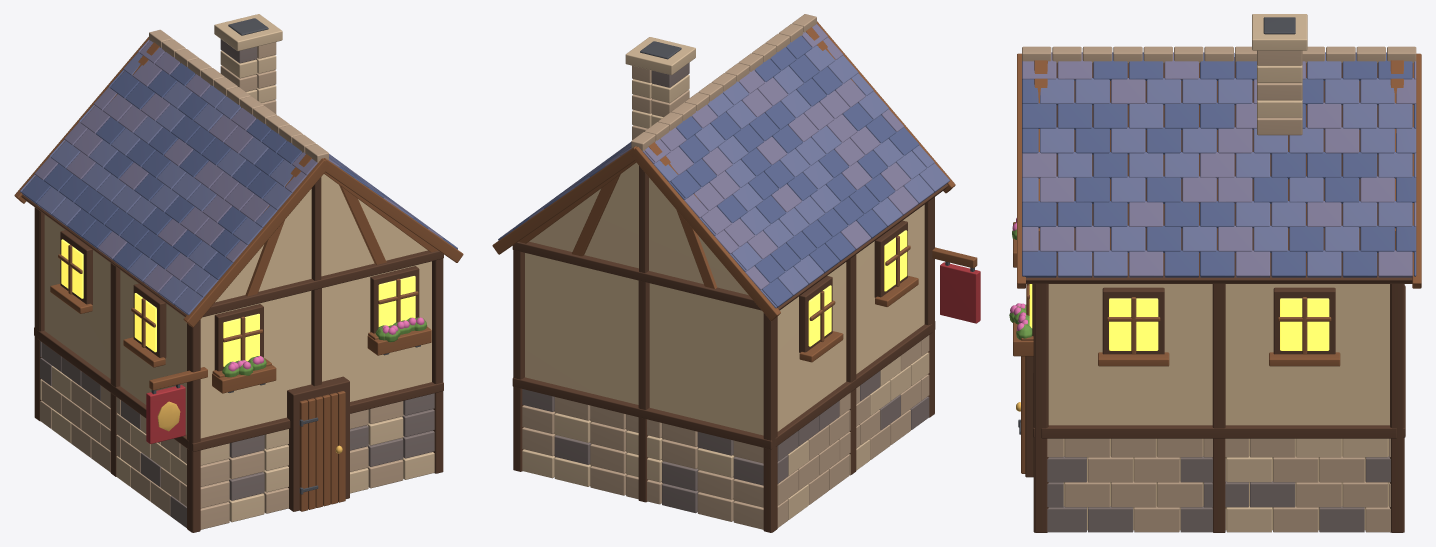
The model's file is ashwick-large-merchant-house.meshopt.glb.
The picture shows the model from 3 angles, left to right: view 1: azimuth 30°, elevation 25°; view 2: azimuth 150°, elevation 25°; view 3: azimuth 270°, elevation 25°; orthographic projection. The views are drawn at different scales.
Parts seen in each view (by area): view 1: Limewashed walls.001, Overlapping slate courses.004, Overlapping slate courses.005, Overlapping slate courses.003, Gable infill.001, Side foundation.004, Foundation ashlar.003, Frame posts.001, Tie beams.001, Carved verge.001, Door planks.001, Side posts.001 (+22 smaller); view 2: Limewashed walls.001, Overlapping slate courses.004, Overlapping slate courses.005, Overlapping slate courses.003, Foundation ashlar.003, Gable infill.001, Side foundation.004, Frame posts.001, Tie beams.001, Carved verge.001, Side posts.001, Foundation ashlar.004 (+16 smaller); view 3: Limewashed walls.001, Overlapping slate courses.005, Overlapping slate courses.004, Overlapping slate courses.003, Side foundation.004, Side posts.001, Side foundation.003, Roof decking.001, Ridge caps.001, Side rails.001, Leaded windows.004, Side foundation.005 (+12 smaller).
Part boxes in pixels (x1,y1,x2,y2): Limewashed walls.001: [44, 215, 431, 502]; Overlapping slate courses.004: [21, 63, 457, 279]; Overlapping slate courses.005: [20, 52, 440, 315]; Overlapping slate courses.003: [34, 39, 443, 293]; Gable infill.001: [215, 174, 427, 302]; Side foundation.004: [40, 380, 186, 515]; Foundation ashlar.003: [200, 401, 403, 529]; Frame posts.001: [40, 211, 443, 532]; Tie beams.001: [34, 250, 443, 451]; Carved verge.001: [14, 37, 463, 327]; Door planks.001: [299, 391, 345, 511]; Side posts.001: [34, 207, 435, 532]; Limewashed walls.001: [525, 204, 924, 501]; Overlapping slate courses.004: [498, 35, 919, 307]; Overlapping slate courses.005: [531, 45, 949, 308]; Overlapping slate courses.003: [500, 24, 918, 289]; Foundation ashlar.003: [522, 397, 763, 529]; Gable infill.001: [529, 162, 748, 294]; Side foundation.004: [777, 335, 929, 527]; Frame posts.001: [513, 201, 929, 532]; Tie beams.001: [512, 241, 935, 449]; Carved verge.001: [492, 21, 955, 320]; Side posts.001: [521, 197, 934, 532]; Foundation ashlar.004: [522, 413, 734, 486]; Limewashed walls.001: [1048, 284, 1389, 530]; Overlapping slate courses.005: [1022, 52, 1416, 277]; Overlapping slate courses.004: [1022, 52, 1416, 277]; Overlapping slate courses.003: [1022, 52, 1416, 277]; Side foundation.004: [1047, 438, 1390, 532]; Side posts.001: [1035, 284, 1403, 532]; Side foundation.003: [1047, 456, 1390, 532]; Roof decking.001: [1026, 57, 1412, 283]; Ridge caps.001: [1022, 46, 1416, 63]; Side rails.001: [1041, 425, 1396, 438]; Leaded windows.004: [1029, 284, 1329, 350]; Side foundation.005: [1226, 438, 1387, 532].
Size of the model in its own units: 5.82 by 7.08 by 5.78.
